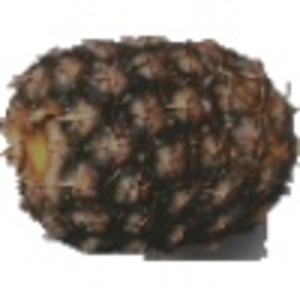abacaxi: (1, 34, 296, 256)
